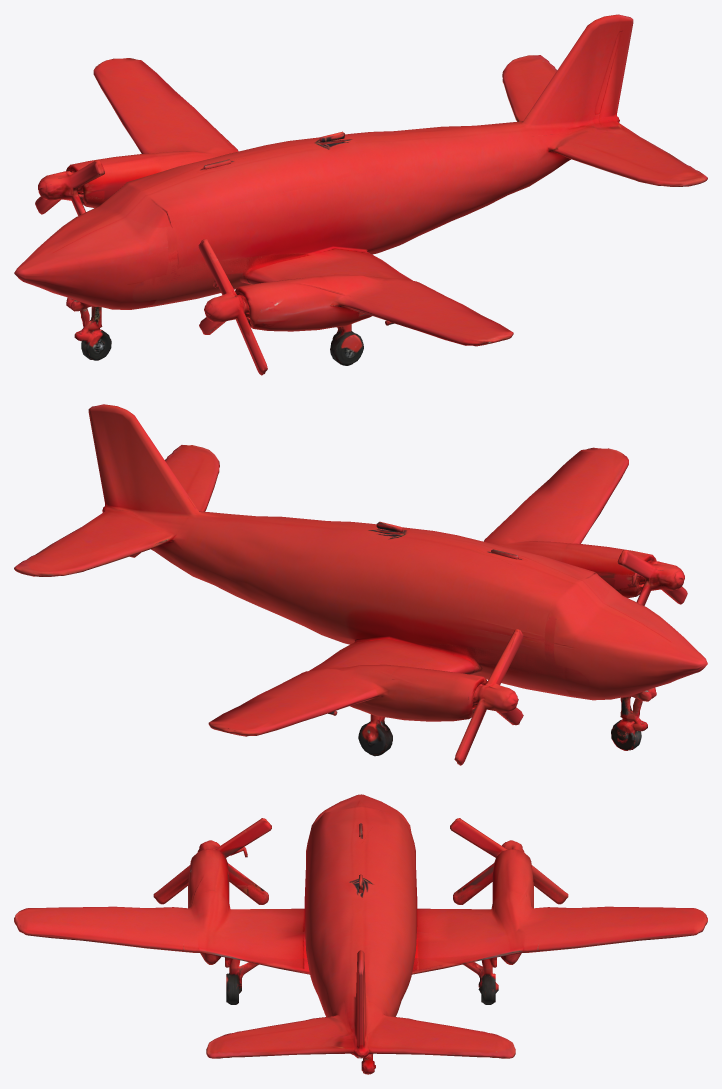
3 views of the same model, one above another, from view 1: azimuth 30°, elevation 25°; view 2: azimuth 150°, elevation 25°; view 3: azimuth 270°, elevation 25° (orthographic). The views are drawn at different scales.
Size of the model in its own units: 1.77 by 0.5988 by 1.91.
Materials: 1 (1 with a texture image).
